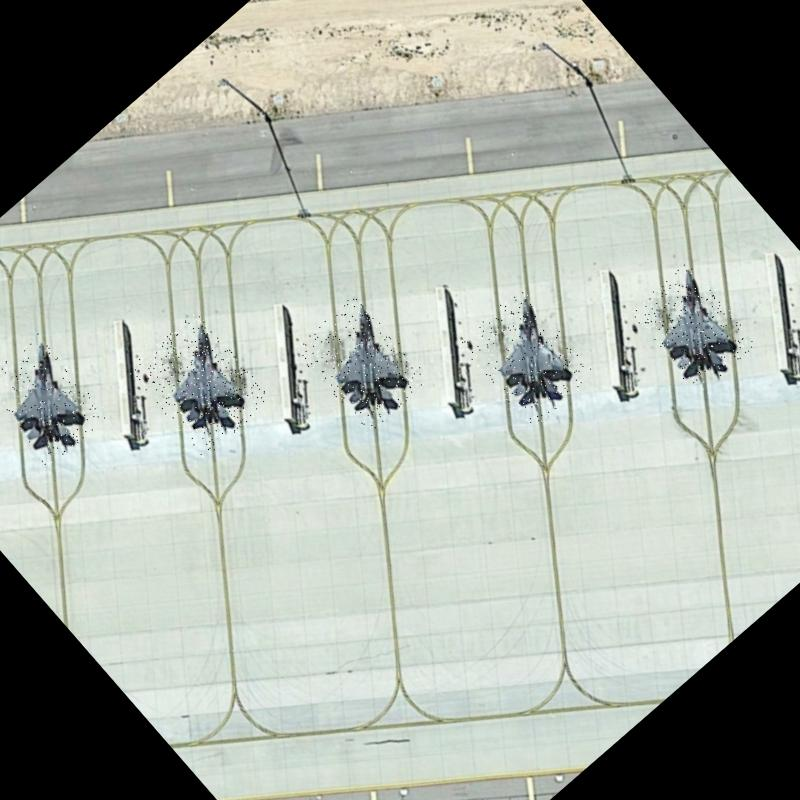A13: (127, 310, 274, 460), (457, 286, 597, 430), (292, 292, 431, 435), (628, 262, 758, 396), (0, 332, 111, 469)
